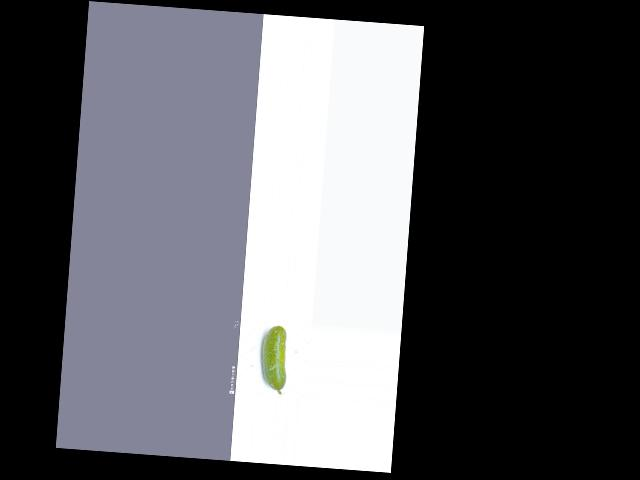cucumber: (259, 324, 290, 394)
